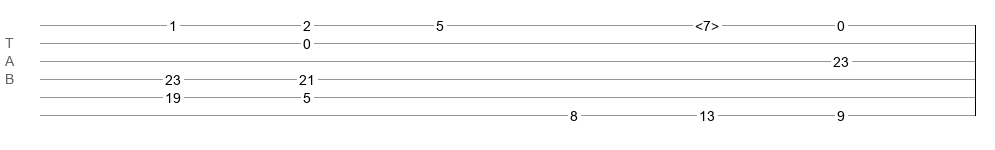0: (303, 36, 311, 46), (837, 18, 845, 28)
1: (169, 18, 177, 28)
13: (699, 108, 715, 118)
19: (165, 90, 181, 100)
2: (303, 18, 311, 28)
21: (299, 72, 315, 82)
23: (165, 72, 181, 82), (833, 54, 849, 64)
5: (303, 90, 311, 100), (436, 18, 444, 28)
8: (570, 108, 578, 118)
9: (837, 108, 845, 118)
harmonic: (695, 18, 719, 28)
